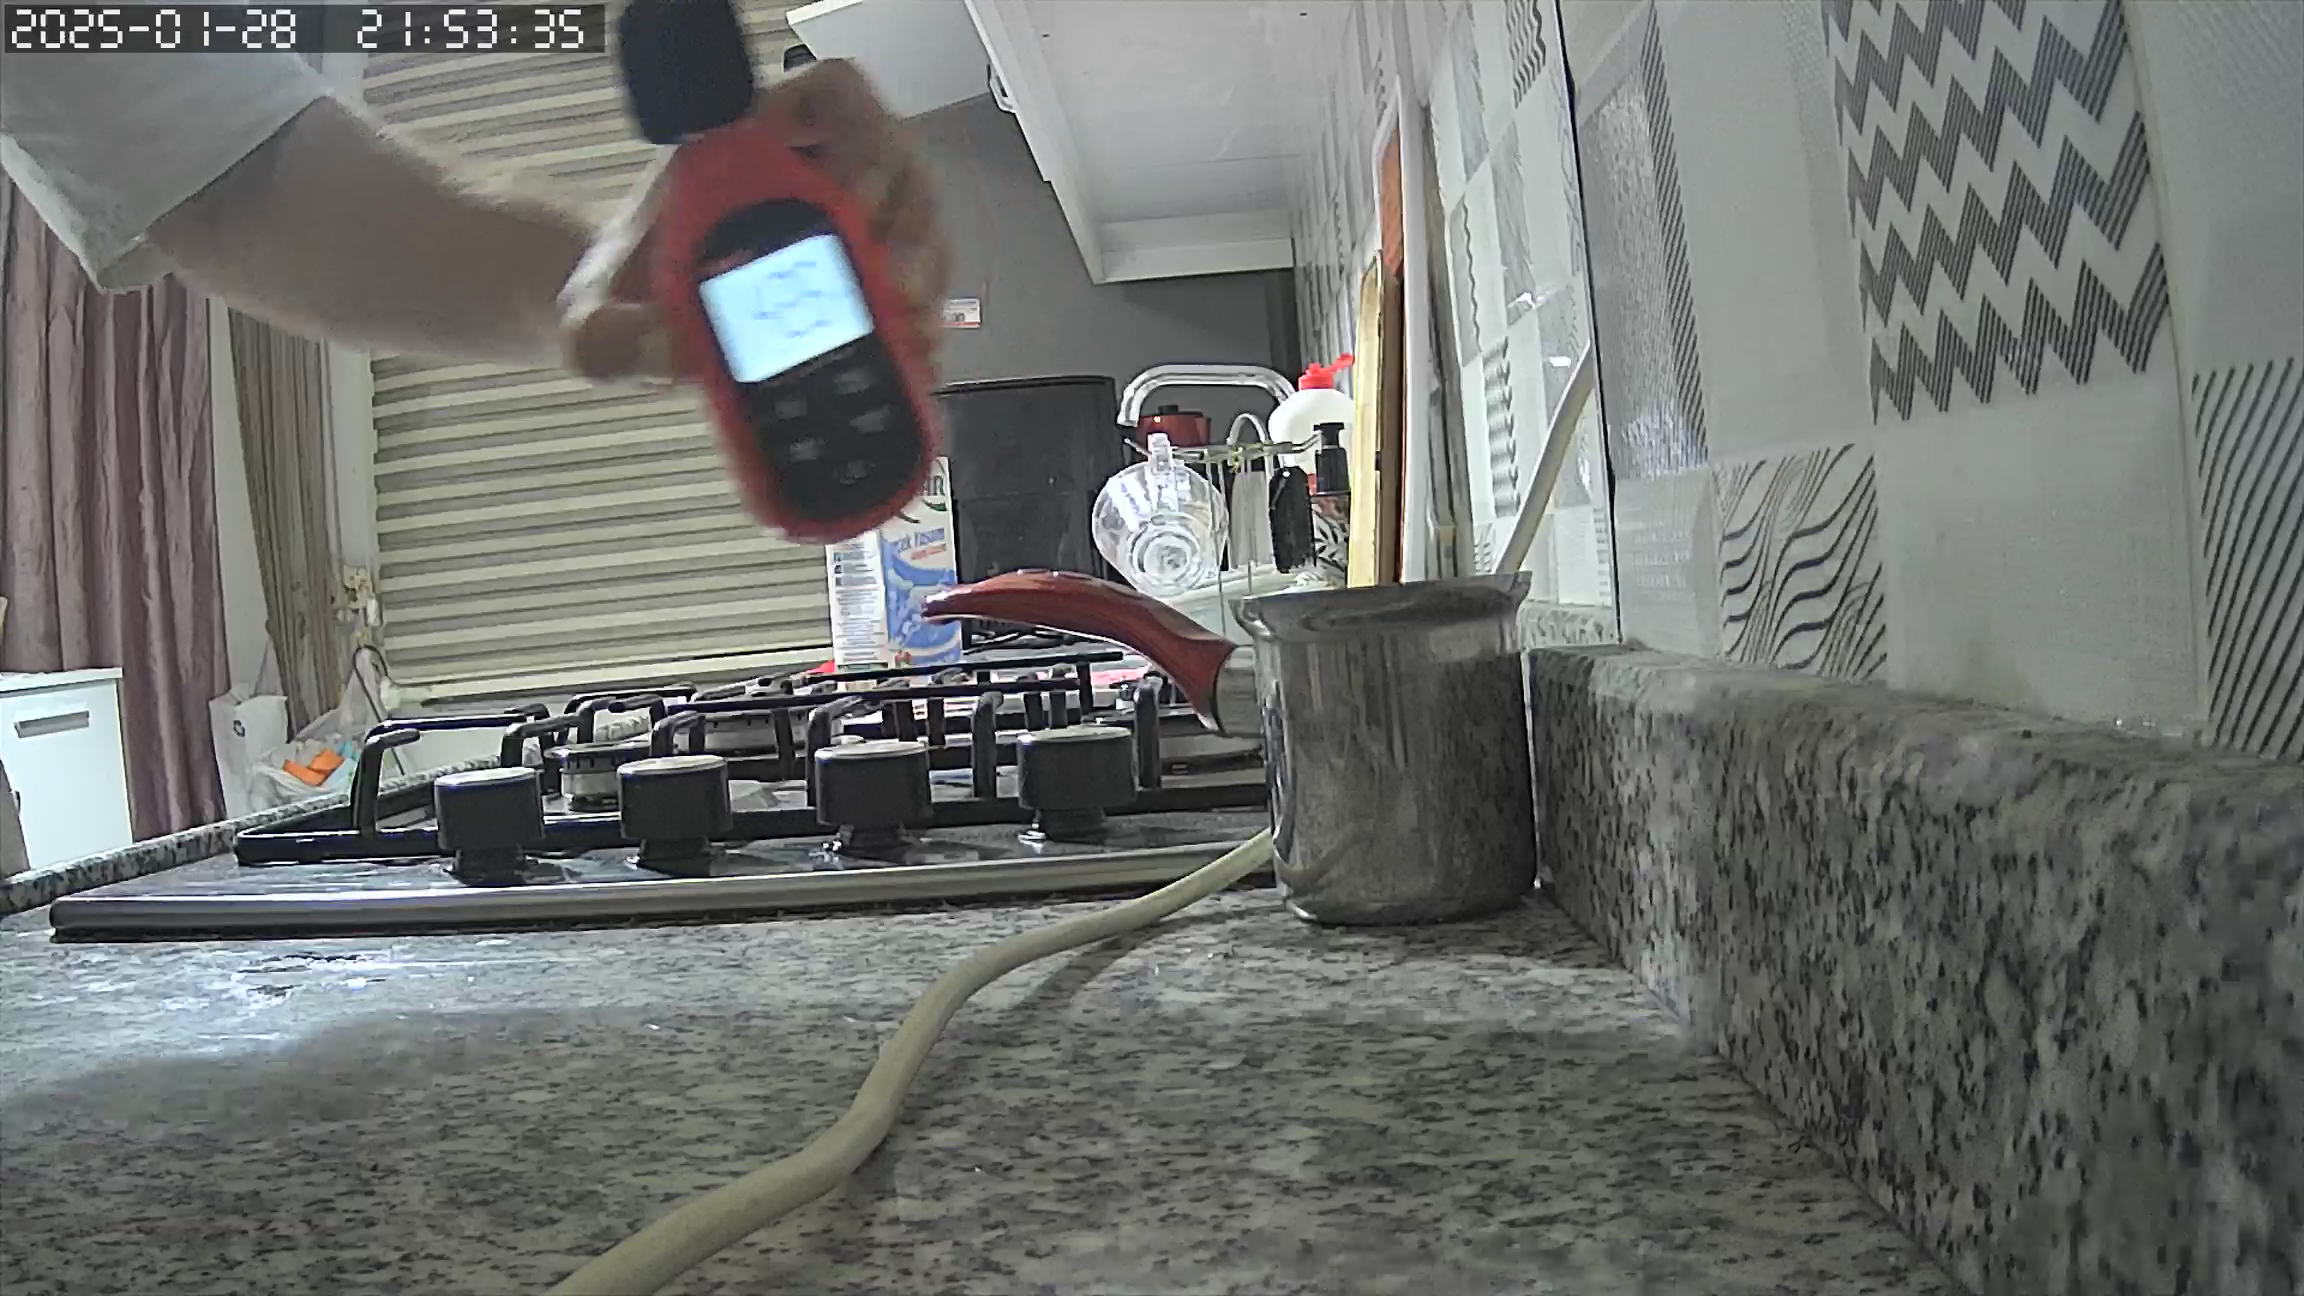screen: (699, 233, 873, 378)
